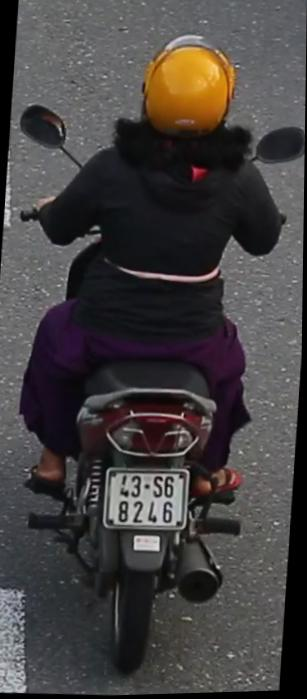LP: (101, 463, 194, 540)
helmet: (135, 32, 243, 181)
